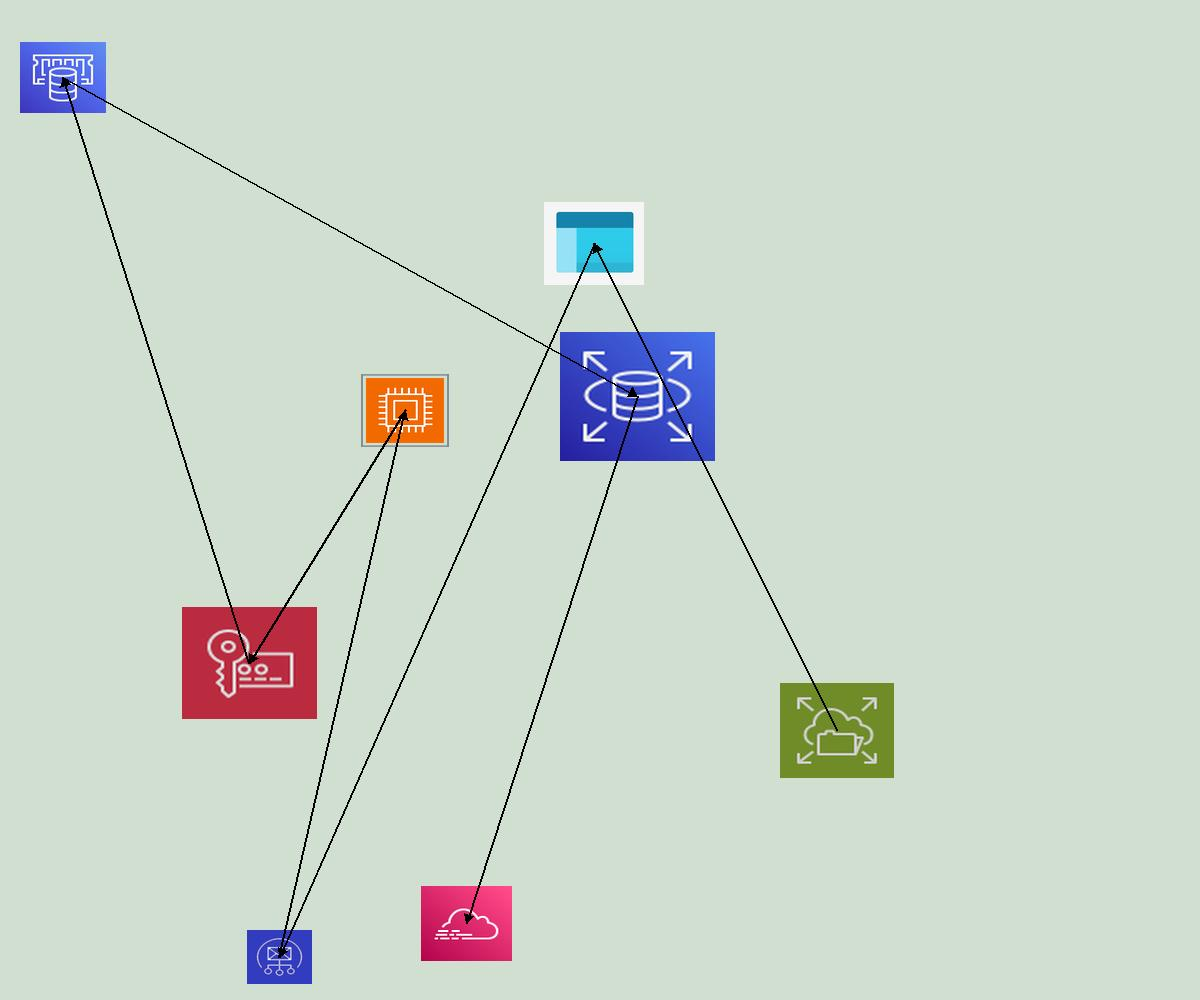AWS-Category_Compute: (361, 374, 449, 447)
AWS-CloudTrail: (421, 886, 512, 961)
AWS-EFS: (780, 683, 894, 778)
AWS-ElastiCache: (20, 42, 106, 113)
AWS-Key-Management-Service: (182, 607, 317, 719)
AWS-RDS: (560, 332, 715, 461)
AWS-Simple-Email-Service: (247, 930, 312, 984)
Azure_management-portal: (544, 202, 644, 285)
